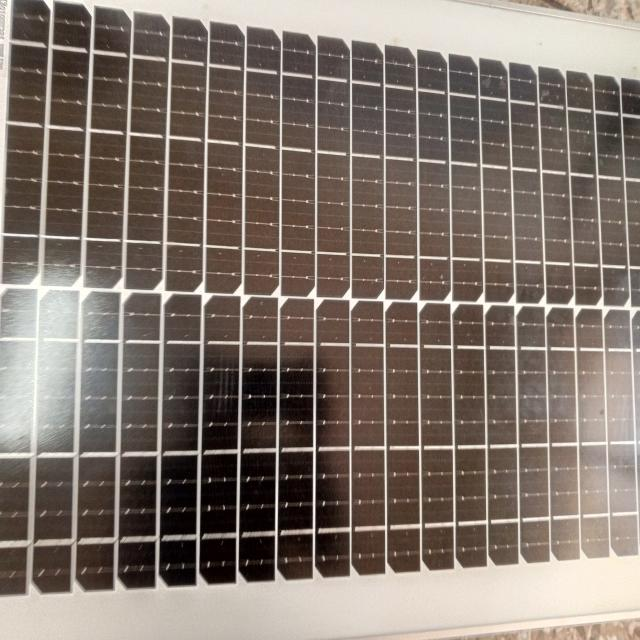Clean: (5, 50, 638, 604)
